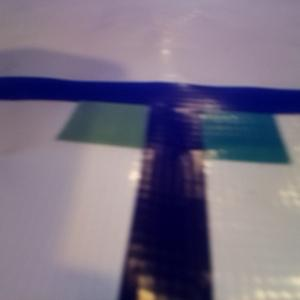bottom_left: (54, 84, 202, 149)
bottom_right: (150, 89, 290, 163)
